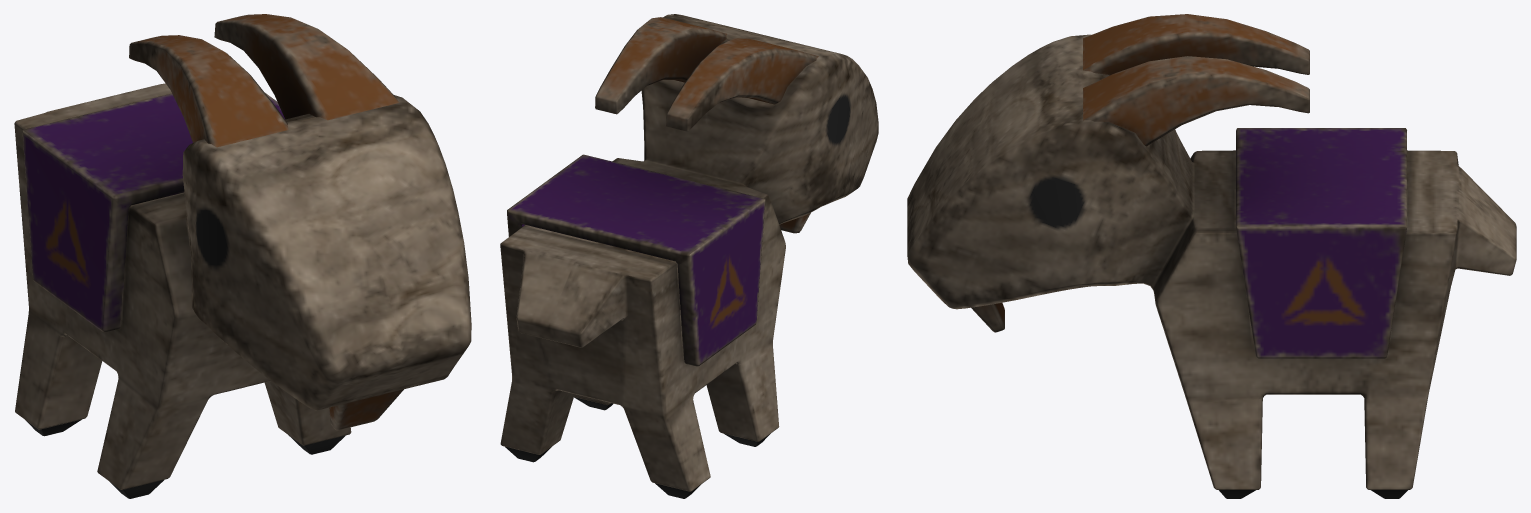
The model's file is Goat Toy.fbx.
3 views of the same model, side by side, from view 1: azimuth 30°, elevation 25°; view 2: azimuth 150°, elevation 25°; view 3: azimuth 270°, elevation 25° (orthographic). The views are drawn at different scales.
Visible parts, largest first — view 1: Goat_Toy; view 2: Goat_Toy; view 3: Goat_Toy.
Boxes of the visible parts, bbox=[...] form: Goat_Toy: bbox=[14, 14, 471, 498]; Goat_Toy: bbox=[500, 14, 878, 498]; Goat_Toy: bbox=[907, 14, 1516, 498].
Bounding box in the file's own units: 10.29 × 18.93 × 25.5.
1 material, 1 textured.
